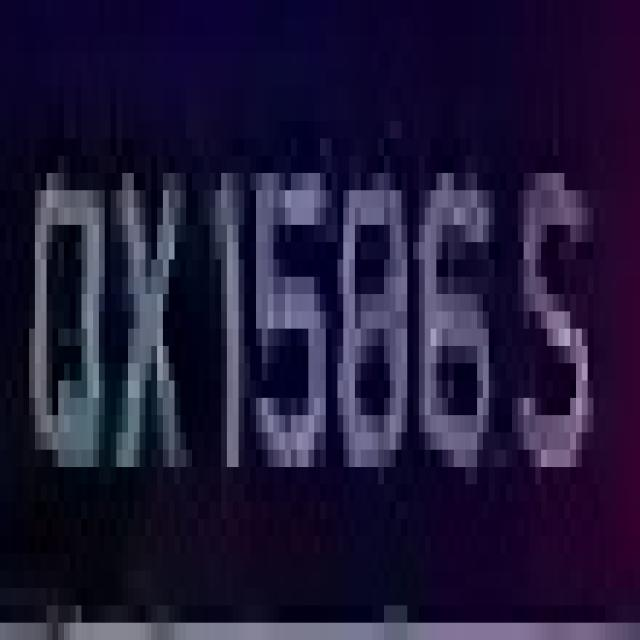1: (204, 138, 250, 519)
5: (250, 87, 338, 484)
6: (419, 104, 512, 536)
8: (332, 104, 424, 484)
Q: (18, 104, 116, 502)
S: (512, 87, 599, 484)
X: (93, 87, 186, 484)
